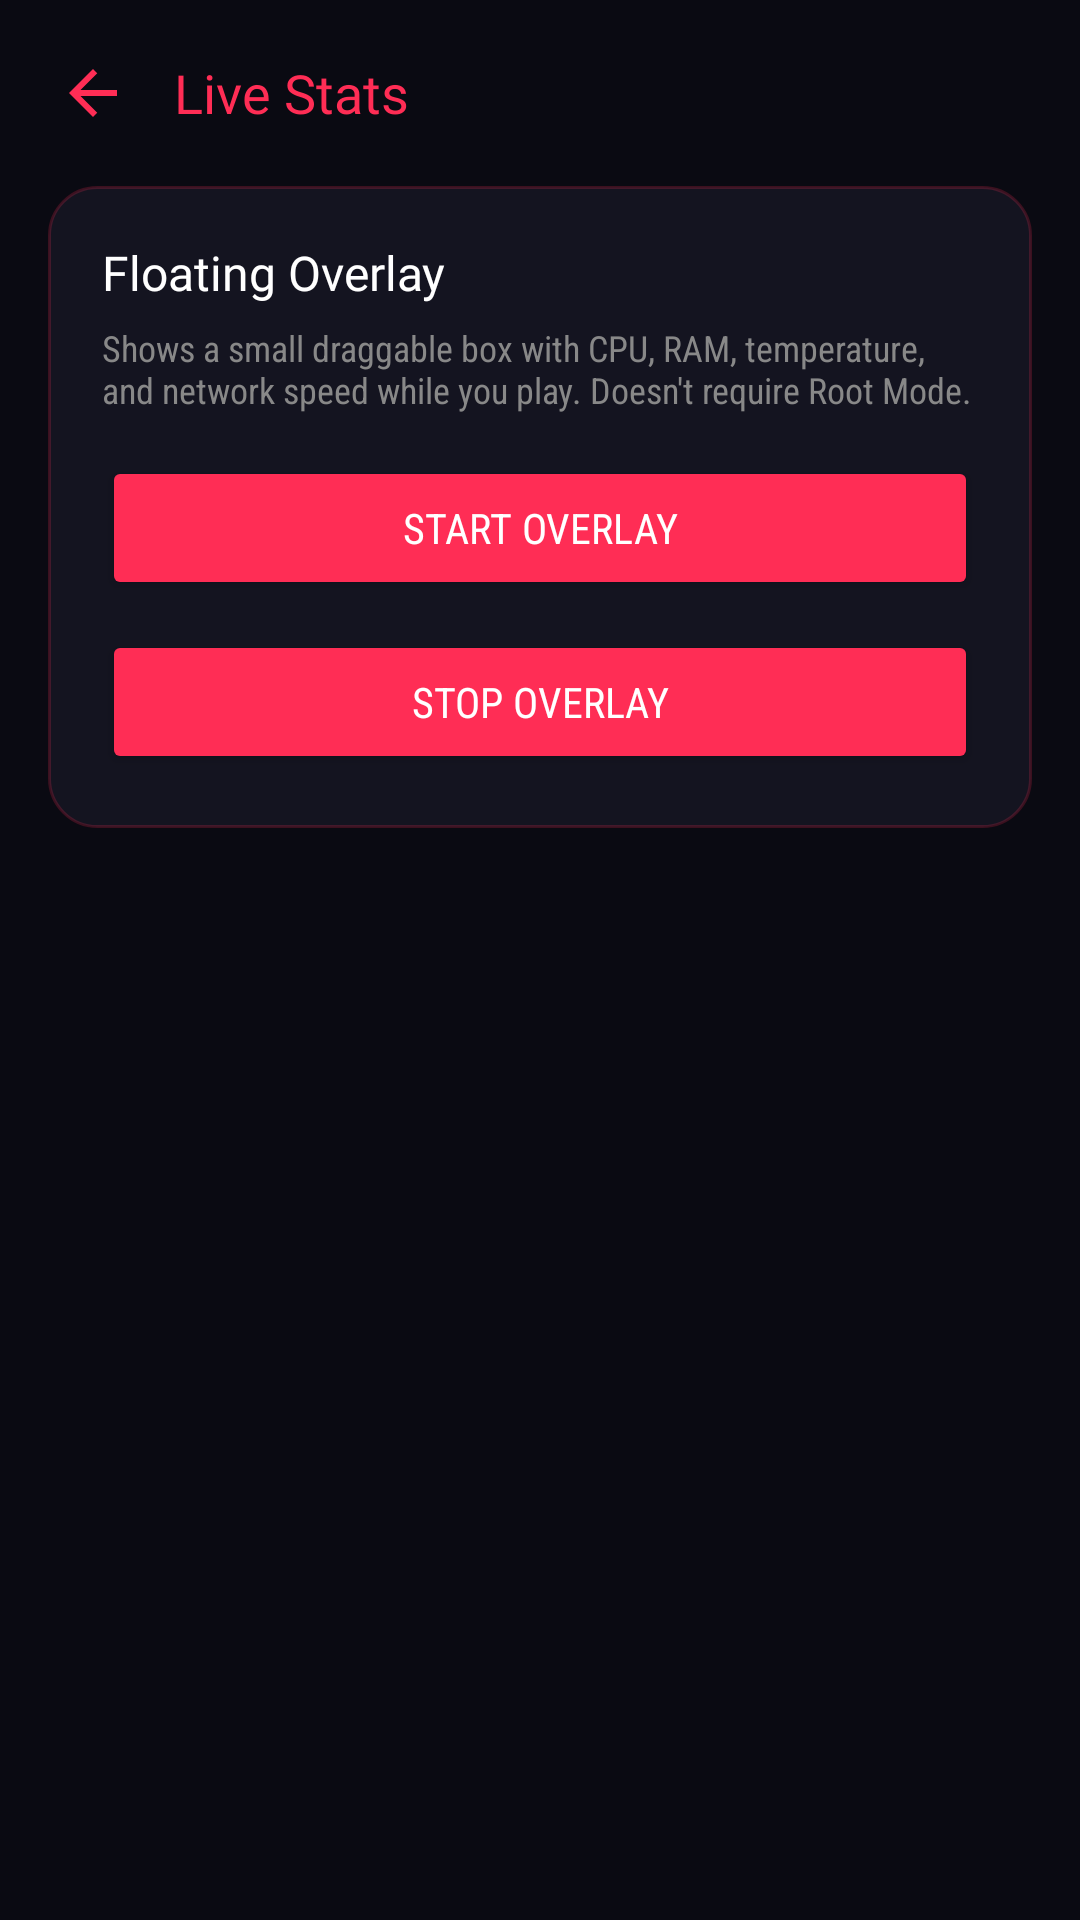

Icons on this 1080x1920 Android screen, each with the point to tap as [x,y]:
Back: [93,93]
